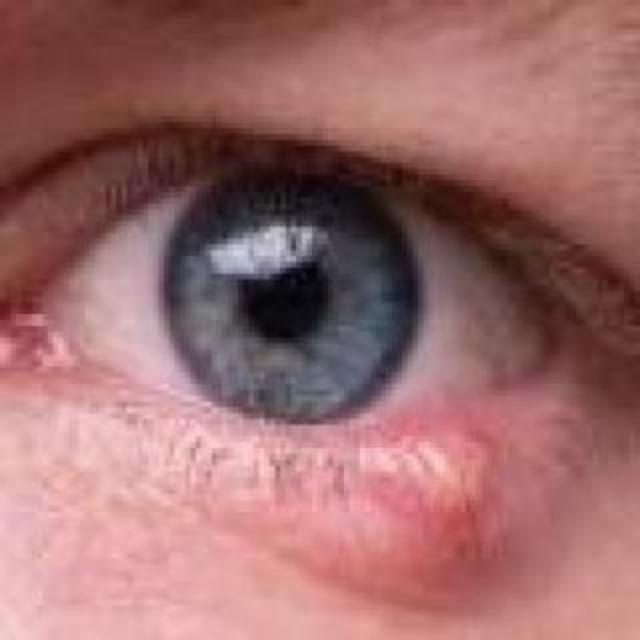Stye: (290, 376, 567, 582)
